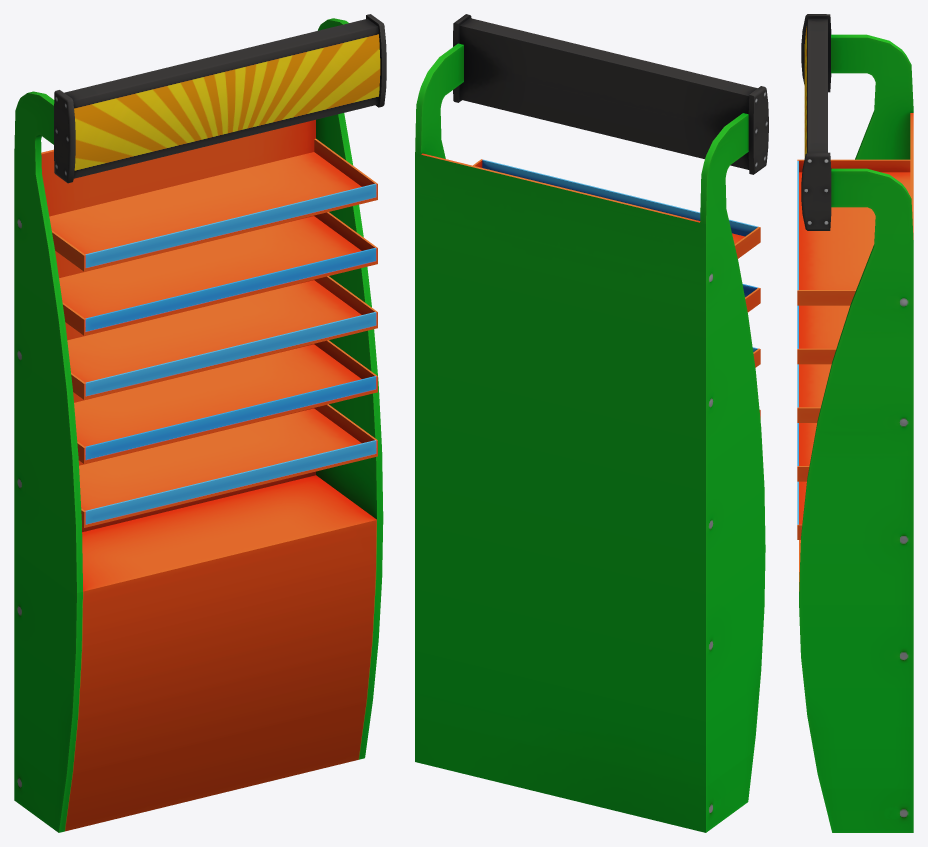
Rendered from CommShelving02_1.FBX.
3 views of the same model, side by side, from view 1: azimuth 30°, elevation 25°; view 2: azimuth 150°, elevation 25°; view 3: azimuth 270°, elevation 25° (orthographic). The views are drawn at different scales.
Visible parts, largest first — view 1: CommShelving02_1; view 2: CommShelving02_1; view 3: CommShelving02_1.
Boxes of the visible parts, x1,y1,x2,y2 form: CommShelving02_1: (14, 14, 386, 832); CommShelving02_1: (415, 14, 768, 832); CommShelving02_1: (797, 14, 913, 832).
Size of what is drawn, in the model's own units: 1.03 by 2.32 by 0.36.
